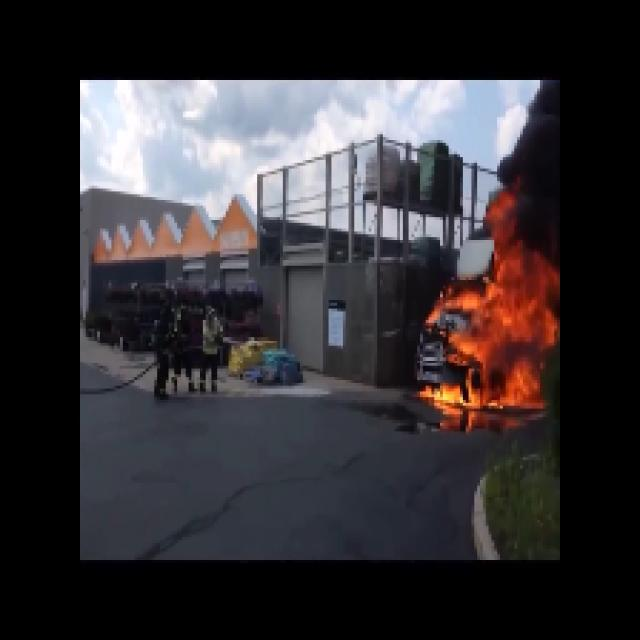fire: (454, 270, 554, 408)
smoke: (523, 110, 559, 240)
